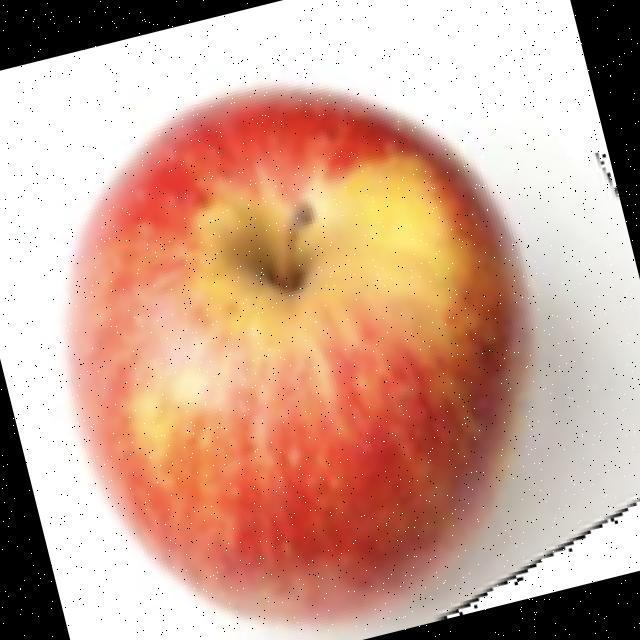apple: (55, 75, 596, 640)
